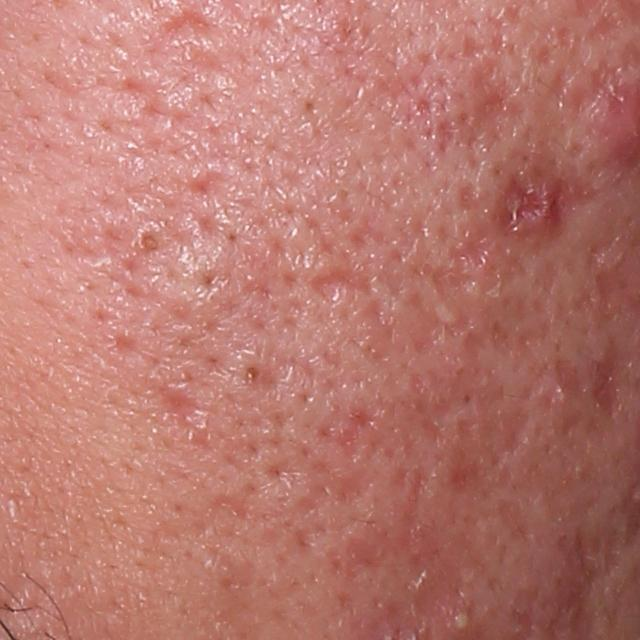atrophic_scar: (432, 52, 529, 152), (311, 389, 379, 501), (430, 231, 502, 294), (493, 166, 556, 231), (153, 385, 221, 445), (584, 333, 629, 415), (349, 303, 400, 359), (313, 266, 380, 307), (153, 7, 220, 41), (180, 168, 225, 201), (454, 177, 474, 212)
comedo: (240, 367, 266, 387)
